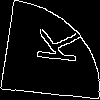K: (25, 25, 81, 65)
